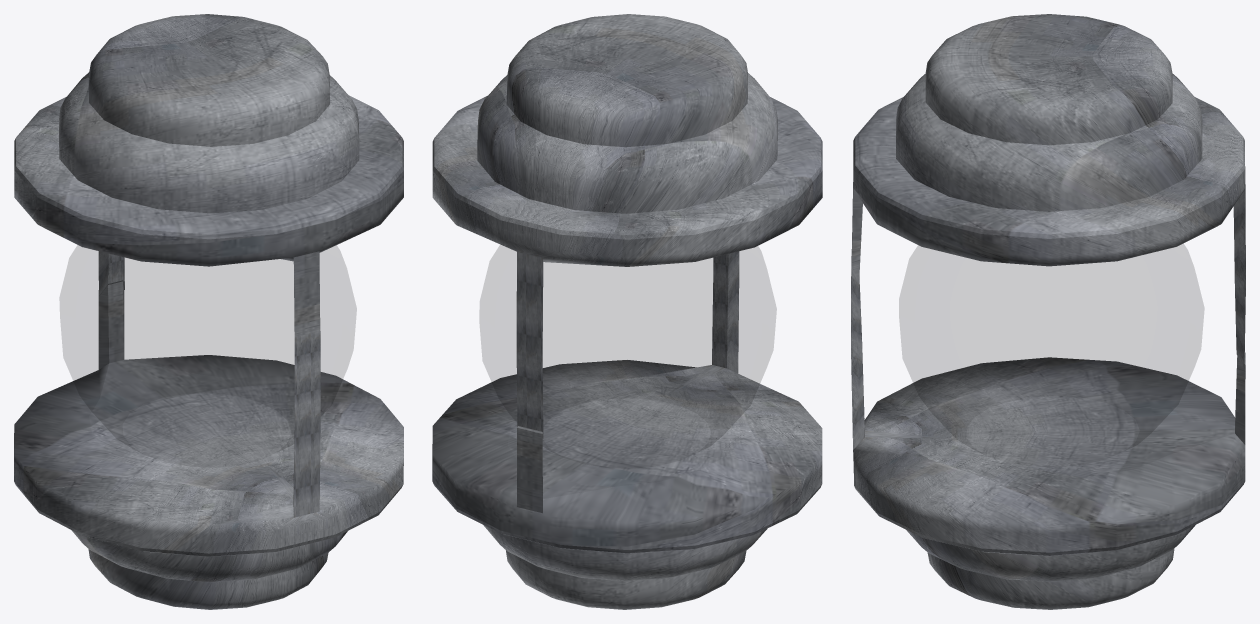
Rendered from lantern.FBX.
3 renders of one model, left to right at view 1: azimuth 30°, elevation 25°; view 2: azimuth 150°, elevation 25°; view 3: azimuth 270°, elevation 25°, orthographic.
Parts seen in each view (by area): view 1: Cylinder002, Cylinder001, Sphere001; view 2: Cylinder001, Cylinder002, Sphere001; view 3: Cylinder001, Cylinder002, Sphere001.
Boxes of the visible parts, x1=… form: Cylinder002: x1=14, y1=281, x2=403, y2=609; Cylinder001: x1=14, y1=14, x2=403, y2=336; Sphere001: x1=60, y1=246, x2=356, y2=452; Cylinder001: x1=432, y1=14, x2=822, y2=438; Cylinder002: x1=432, y1=251, x2=822, y2=609; Sphere001: x1=480, y1=245, x2=776, y2=454; Cylinder001: x1=851, y1=14, x2=1245, y2=369; Cylinder002: x1=851, y1=256, x2=1245, y2=609; Sphere001: x1=899, y1=244, x2=1203, y2=453.
Bounding box in the file's own units: 12.45 × 17.68 × 12.37.
